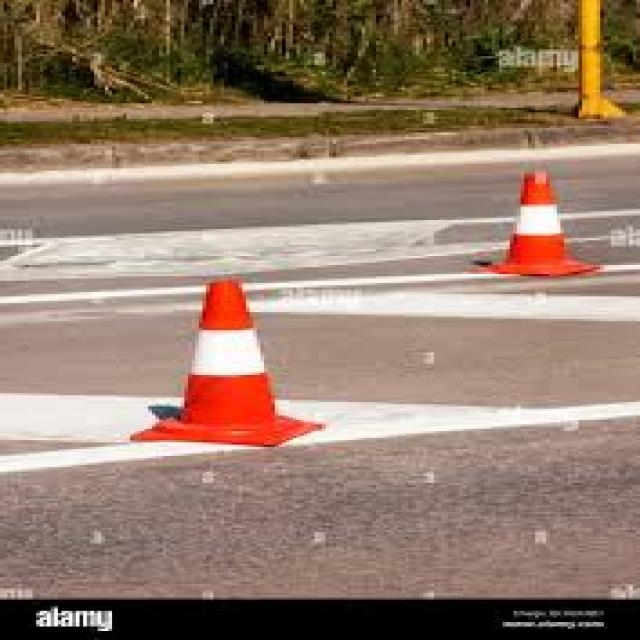Traffic Cone: (78, 208, 395, 507), (426, 116, 640, 388)
